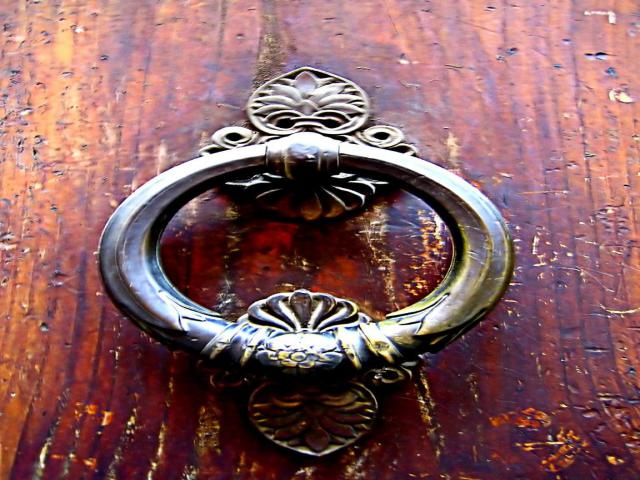Door-handle: (95, 66, 512, 460)
